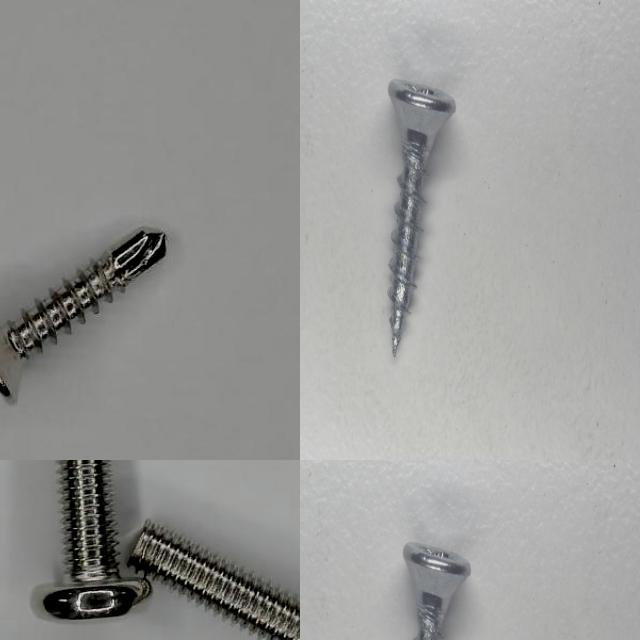Screw: (0, 229, 166, 405), (129, 524, 300, 640), (388, 78, 456, 354), (43, 460, 151, 620), (403, 541, 471, 640)
